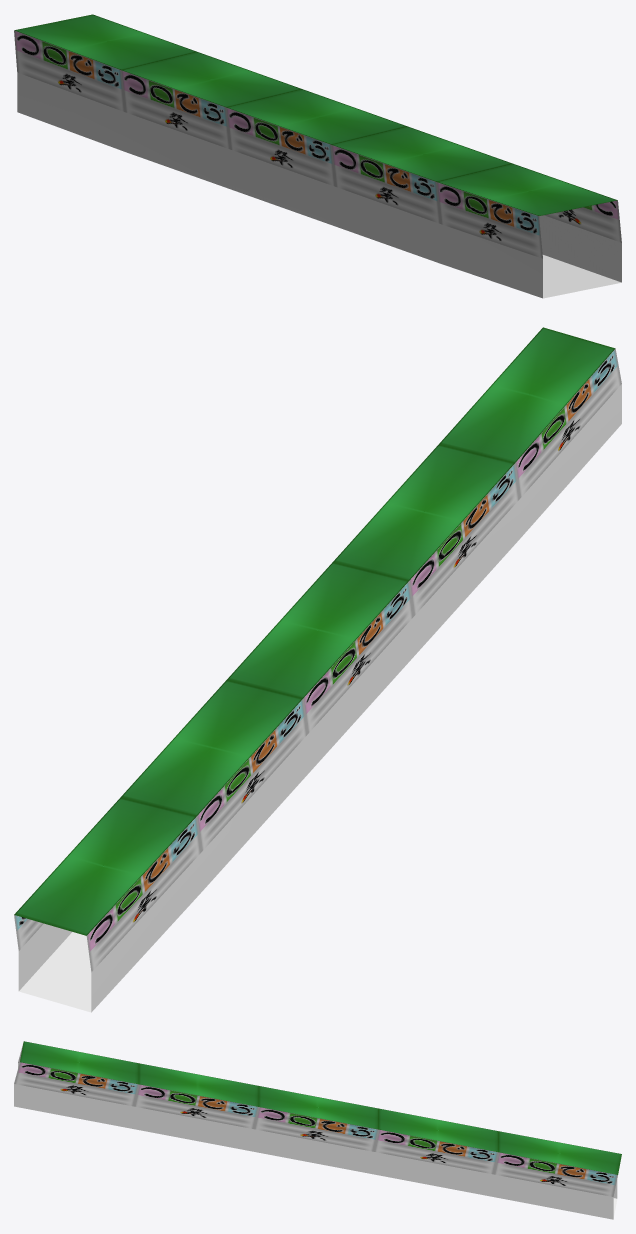
Rendered from CourseWinter_Wall_L_12.fbx.
3 renders of one model, top to bottom at view 1: azimuth 30°, elevation 25°; view 2: azimuth 150°, elevation 25°; view 3: azimuth 270°, elevation 25°, orthographic. The views are drawn at different scales.
Parts seen in each view (by area): view 1: polySurface404; view 2: polySurface404; view 3: polySurface404.
Part boxes in pixels (x1=…): polySurface404: x1=14, y1=14, x2=621, y2=298; polySurface404: x1=14, y1=327, x2=621, y2=1012; polySurface404: x1=14, y1=1041, x2=621, y2=1219.
Bounding box in the file's own units: 2.03 × 6.97 × 24.34.
1 material, 1 textured.
